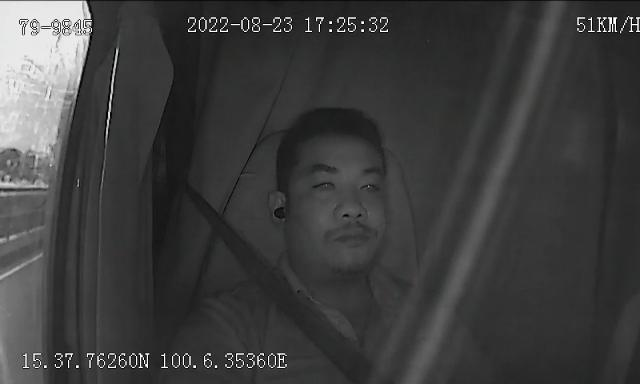SafeDriving: (354, 169, 388, 199)
Seatbelt: (168, 167, 390, 384)
